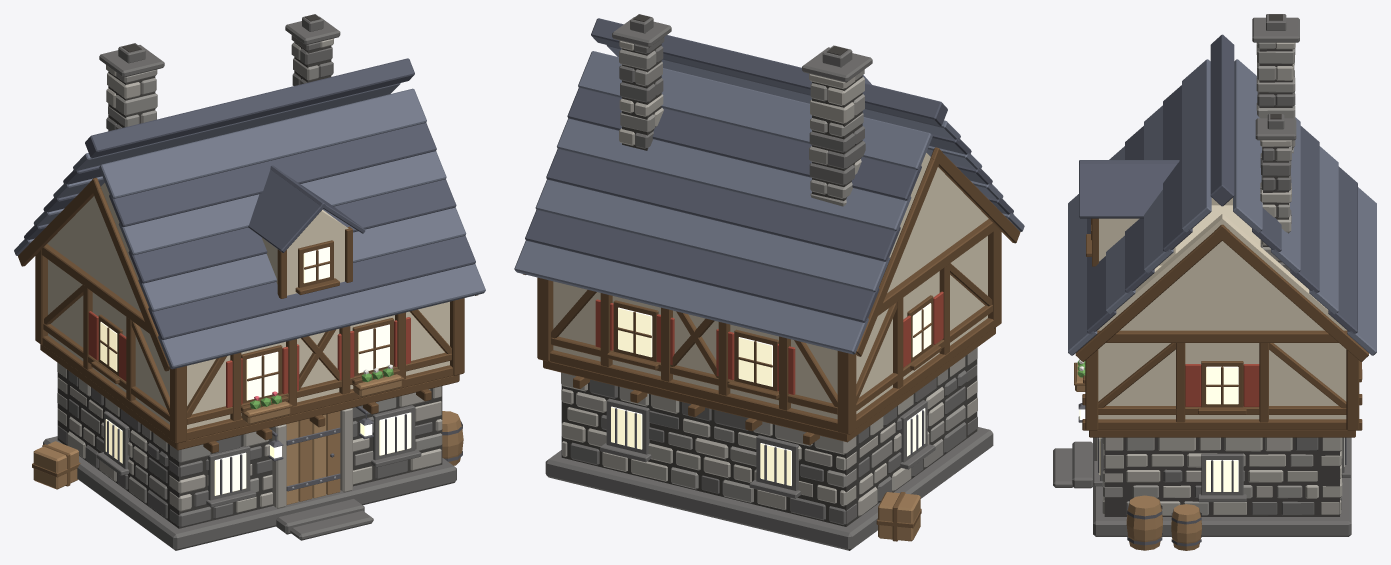
File: house_c.glb
The picture shows the model from 3 angles, left to right: view 1: azimuth 30°, elevation 25°; view 2: azimuth 150°, elevation 25°; view 3: azimuth 270°, elevation 25°; orthographic projection. The views are drawn at different scales.
Visible parts, largest first — view 1: HouseC; view 2: HouseC; view 3: HouseC.
Part boxes in pixels (<box>): HouseC: <box>14,14,485,550</box>; HouseC: <box>514,14,1024,550</box>; HouseC: <box>1053,14,1376,550</box>.
Size of the model in its own units: 6.53 by 7.62 by 5.43.
